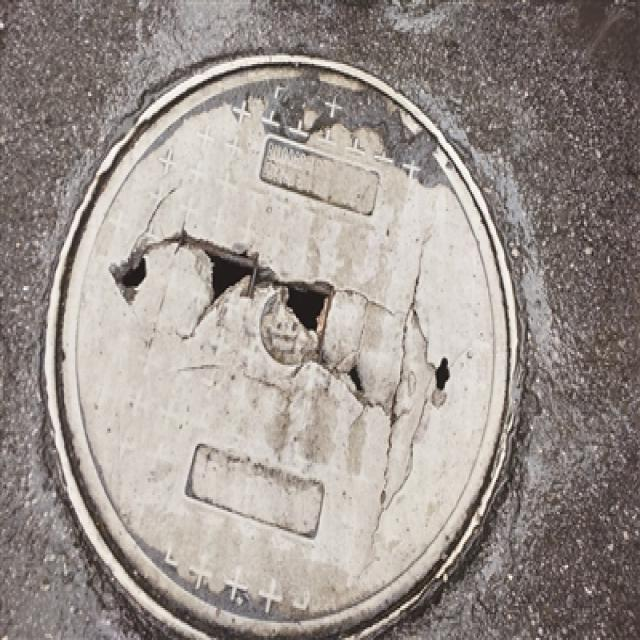manhole: (45, 55, 519, 640)
